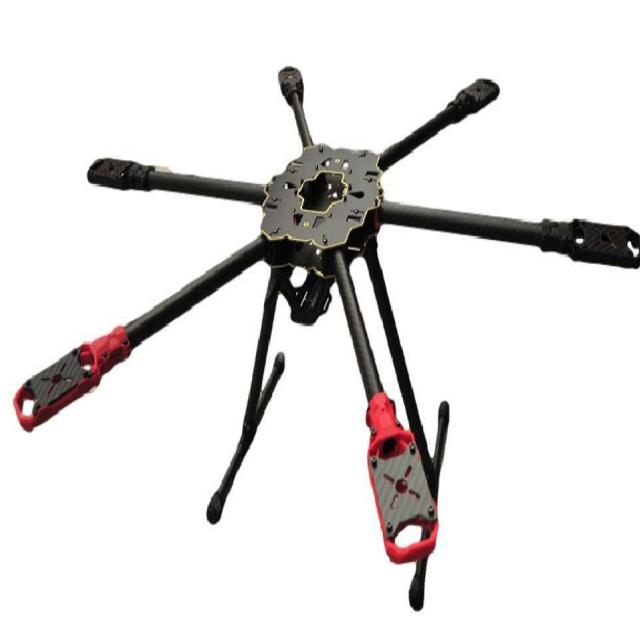drone: (0, 46, 640, 614)
